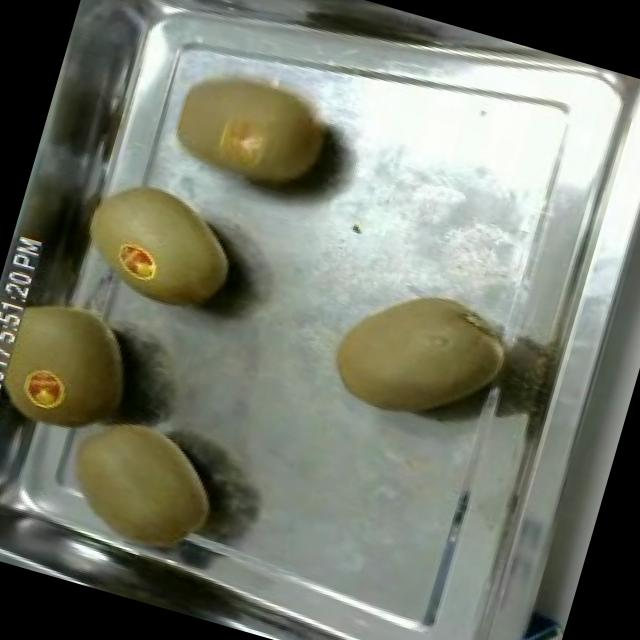Fruit: (144, 29, 358, 220), (316, 261, 526, 447), (36, 392, 242, 576), (54, 154, 258, 336), (0, 276, 153, 445)
